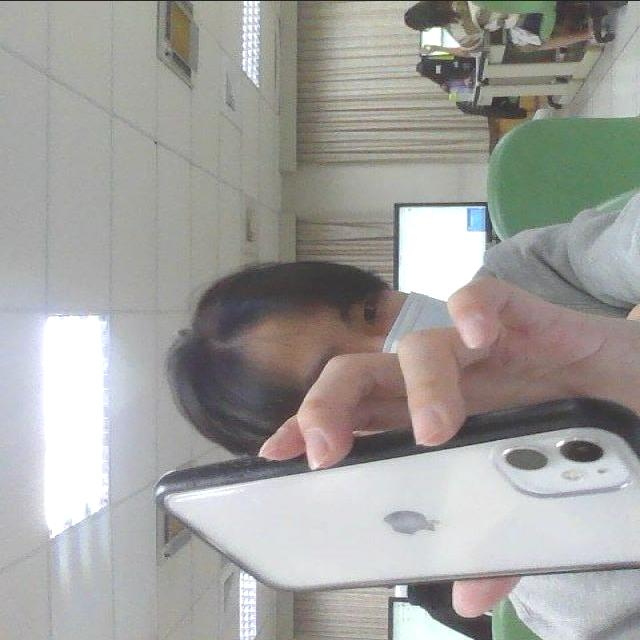ph: (141, 387, 640, 598)
